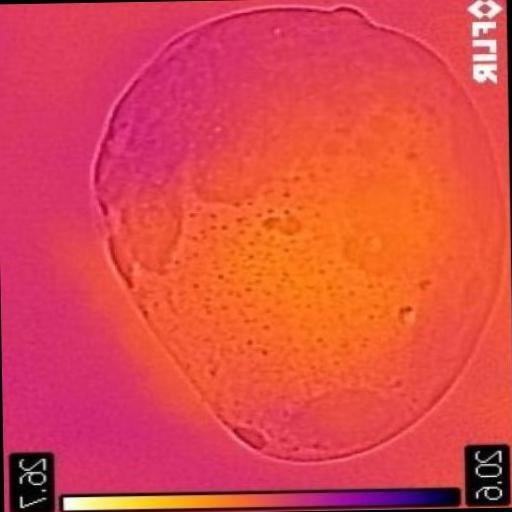alphanso: (93, 6, 507, 461)
